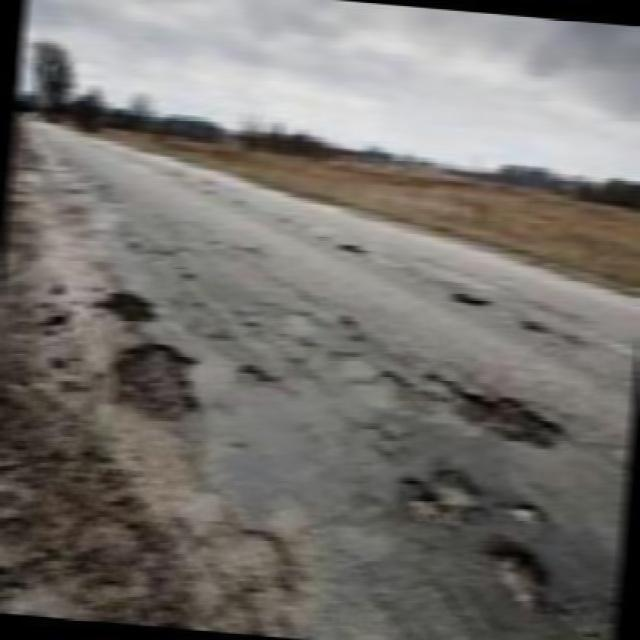Pothole: (425, 367, 575, 460), (210, 522, 316, 640), (106, 337, 208, 447), (318, 309, 406, 415), (478, 520, 546, 609), (380, 464, 492, 517), (94, 280, 160, 328), (520, 310, 585, 346), (232, 356, 292, 394), (446, 287, 502, 318), (332, 238, 373, 259), (507, 500, 542, 524)
